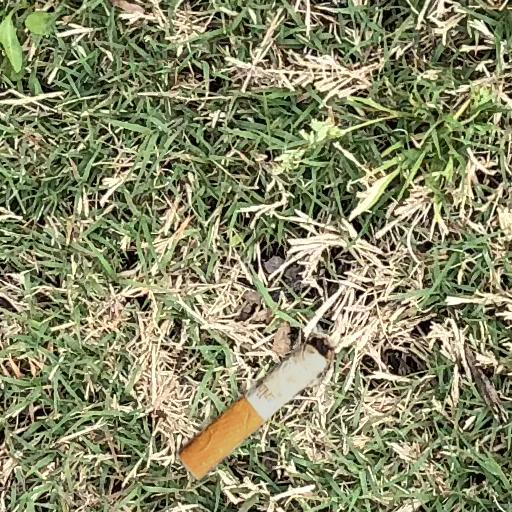smoke: (178, 336, 333, 480)
